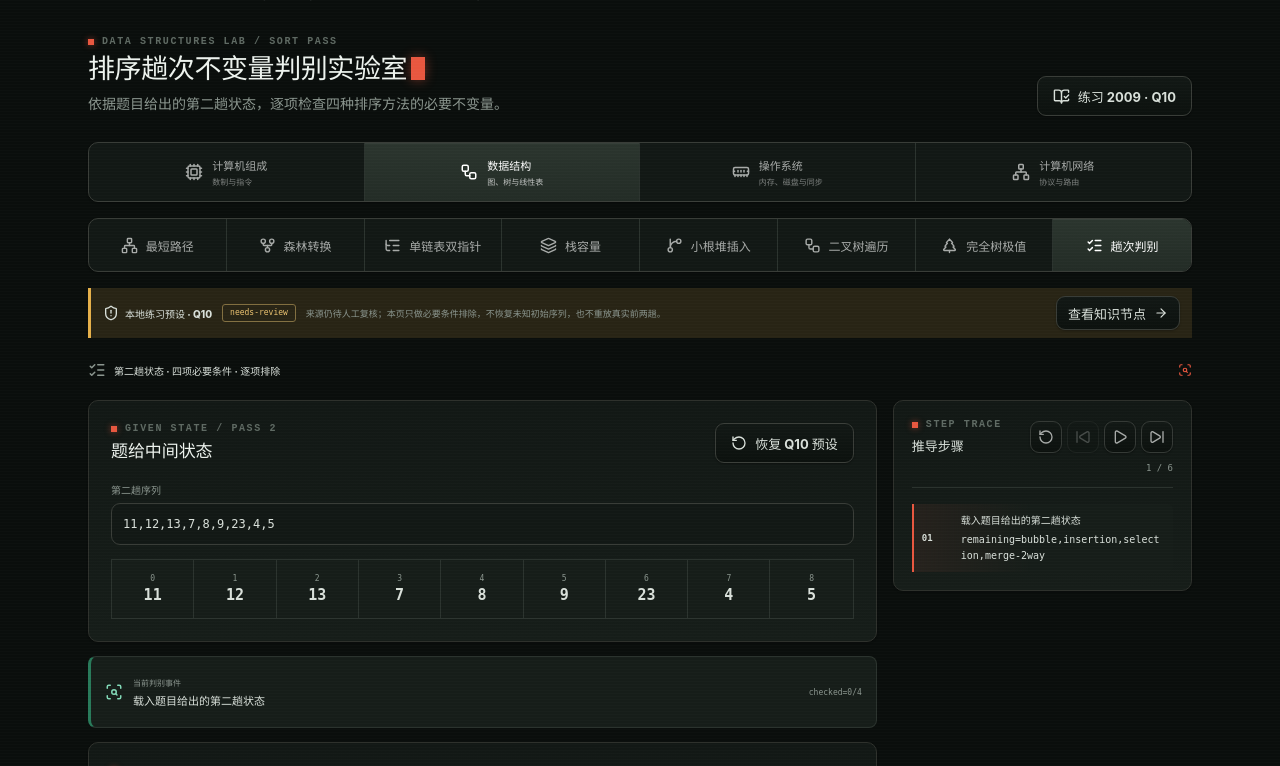
Test: SortPassAnalysisLabPage › reveals four necessary-condition checks and only concludes B at completion
The image size is (1280, 766).
What coordinates should you click on to do the following:
click the button named "下一步"
I would click on:
 (1157, 438)
Its box is 1141,422 -> 1173,454.
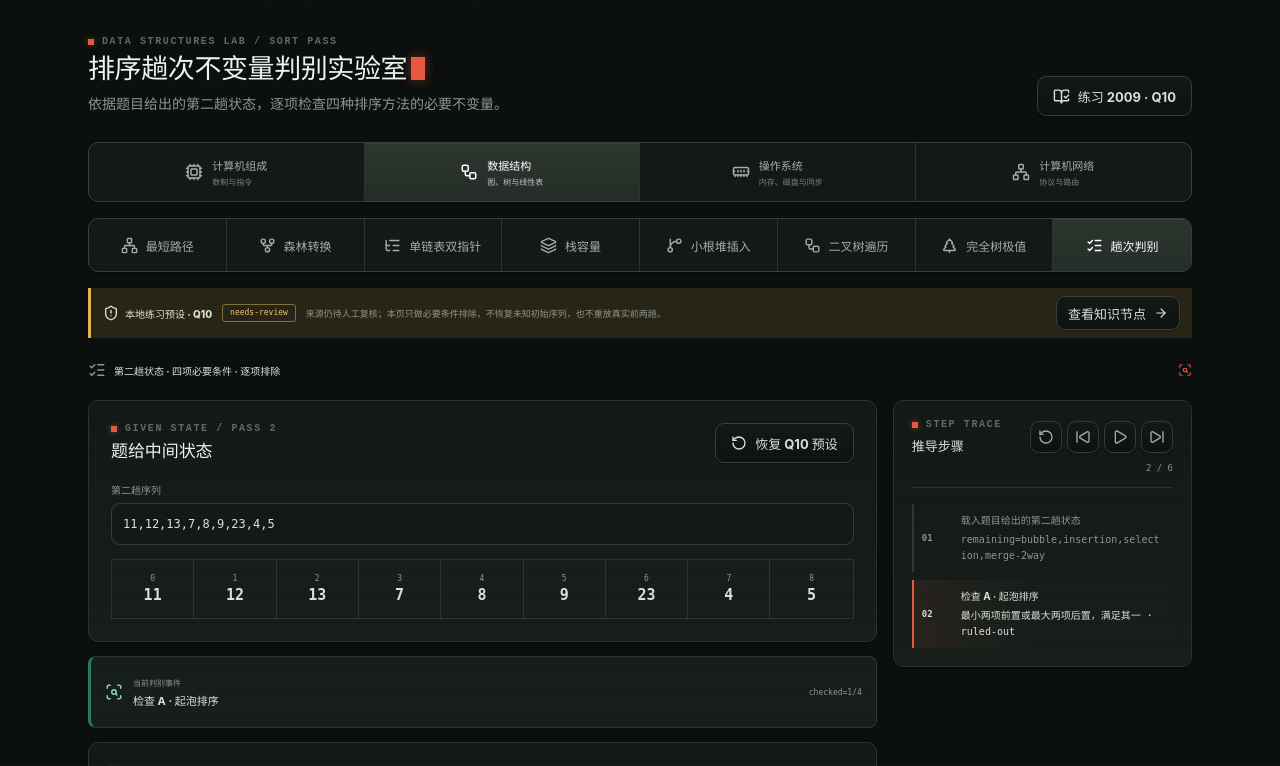
What coordinates should you click on to do the following:
click the button named "下一步"
I would click on:
 (1157, 438)
Its box is 1141,422 -> 1173,454.
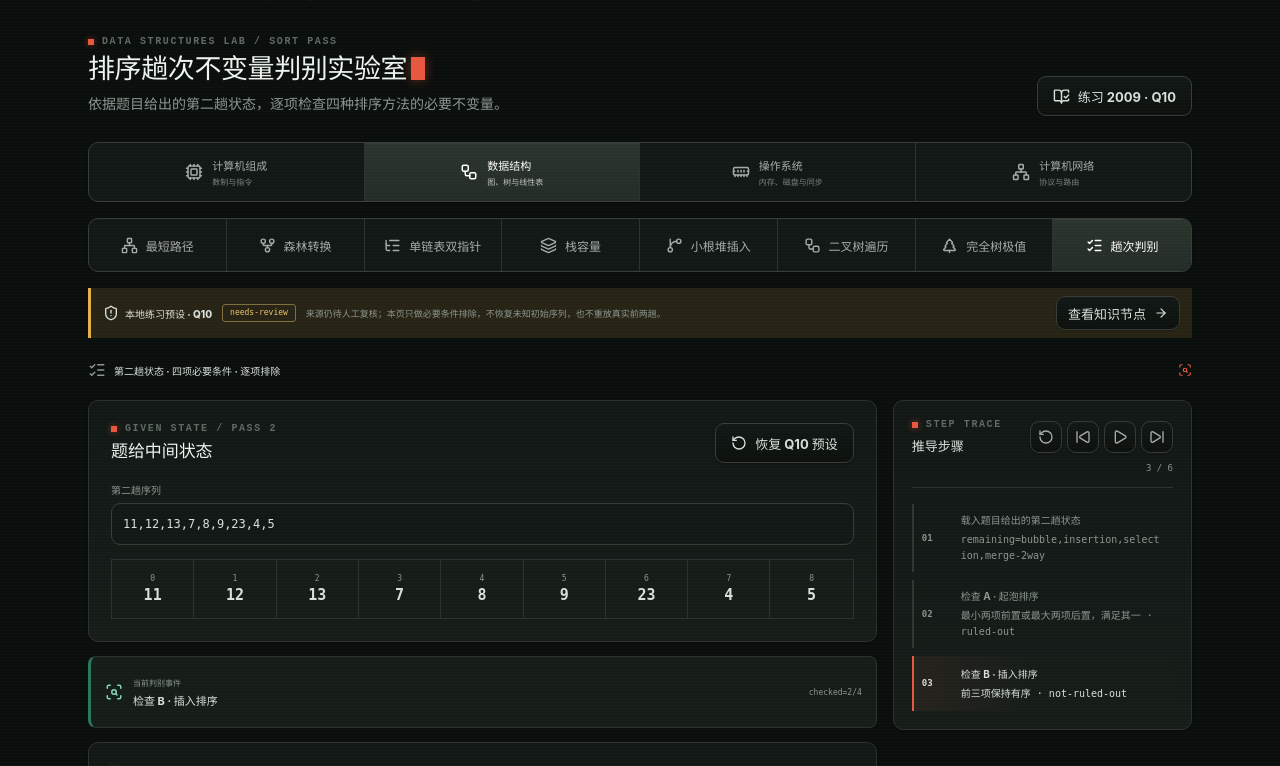
What coordinates should you click on to do the following:
click the button named "下一步"
I would click on:
 (1157, 438)
Its box is 1141,422 -> 1173,454.
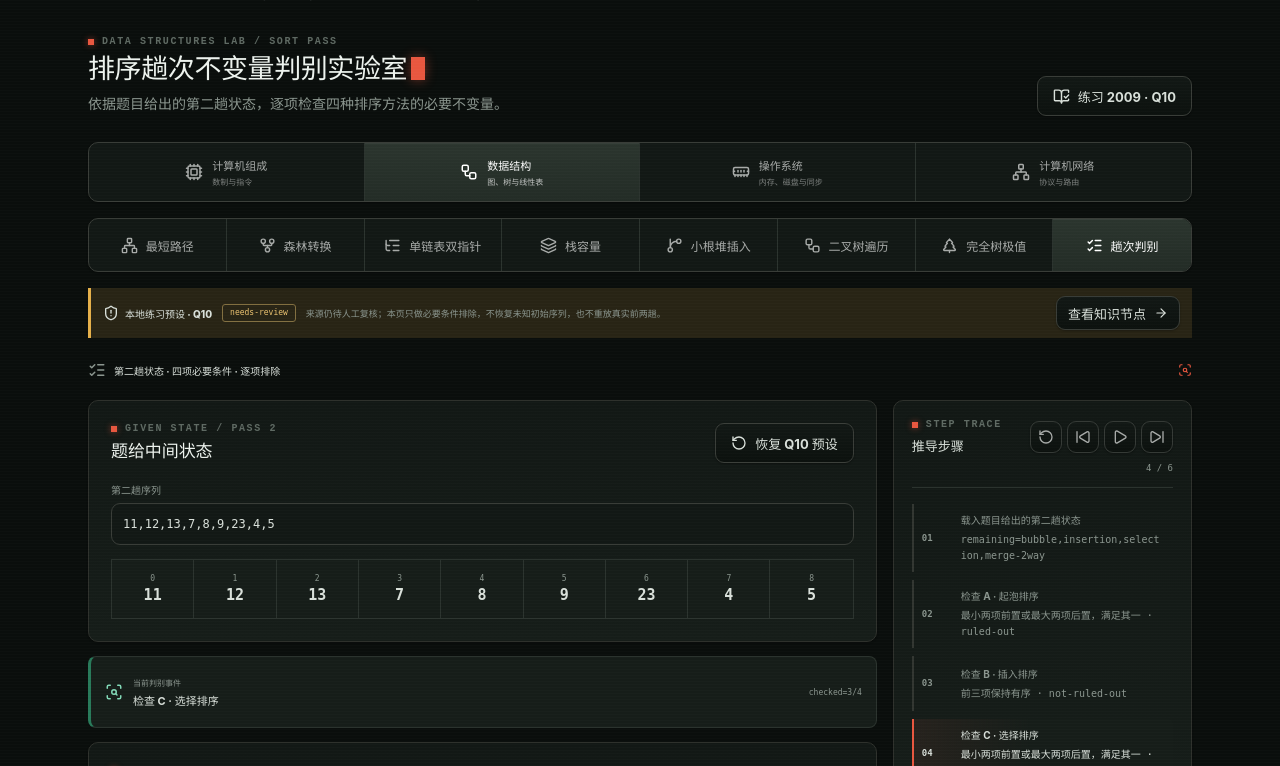
What coordinates should you click on to do the following:
click the button named "下一步"
I would click on:
 (1157, 438)
Its box is 1141,422 -> 1173,454.
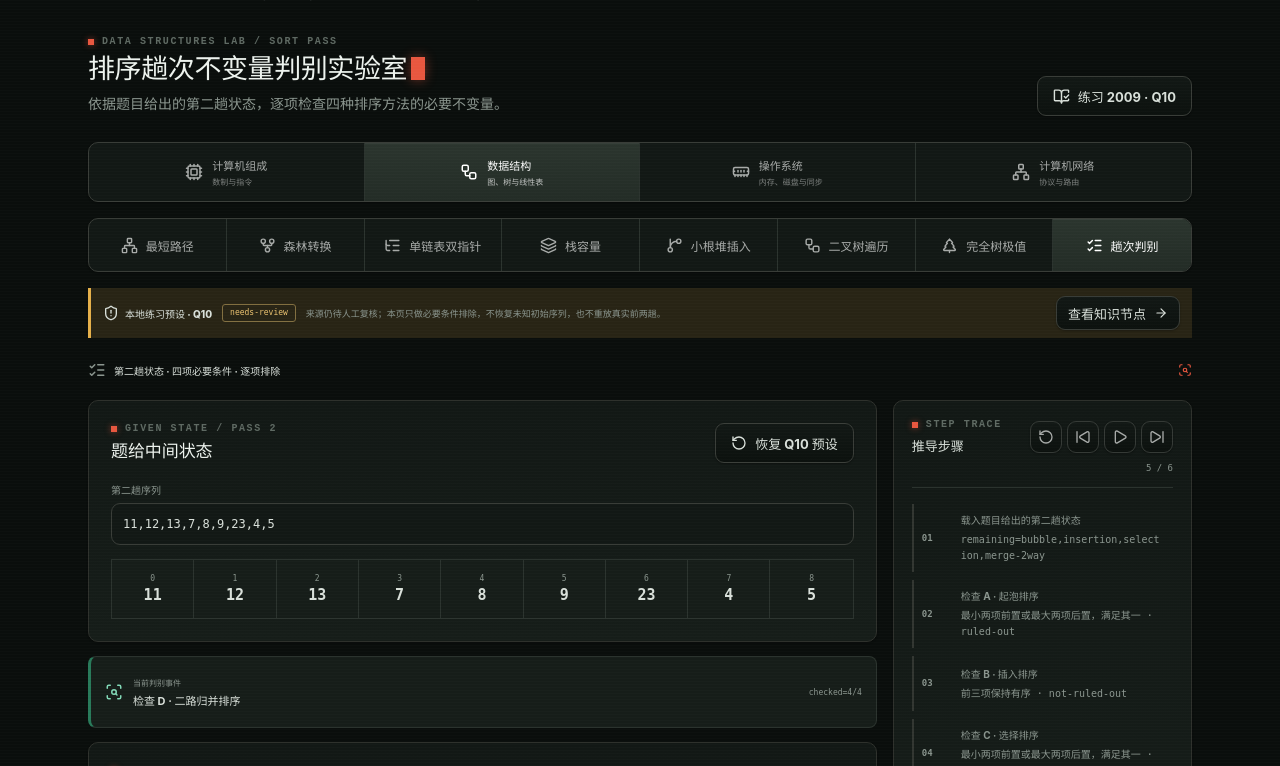
What coordinates should you click on to do the following:
click the button named "下一步"
I would click on:
 (1157, 438)
Its box is 1141,422 -> 1173,454.
(page scrolled)
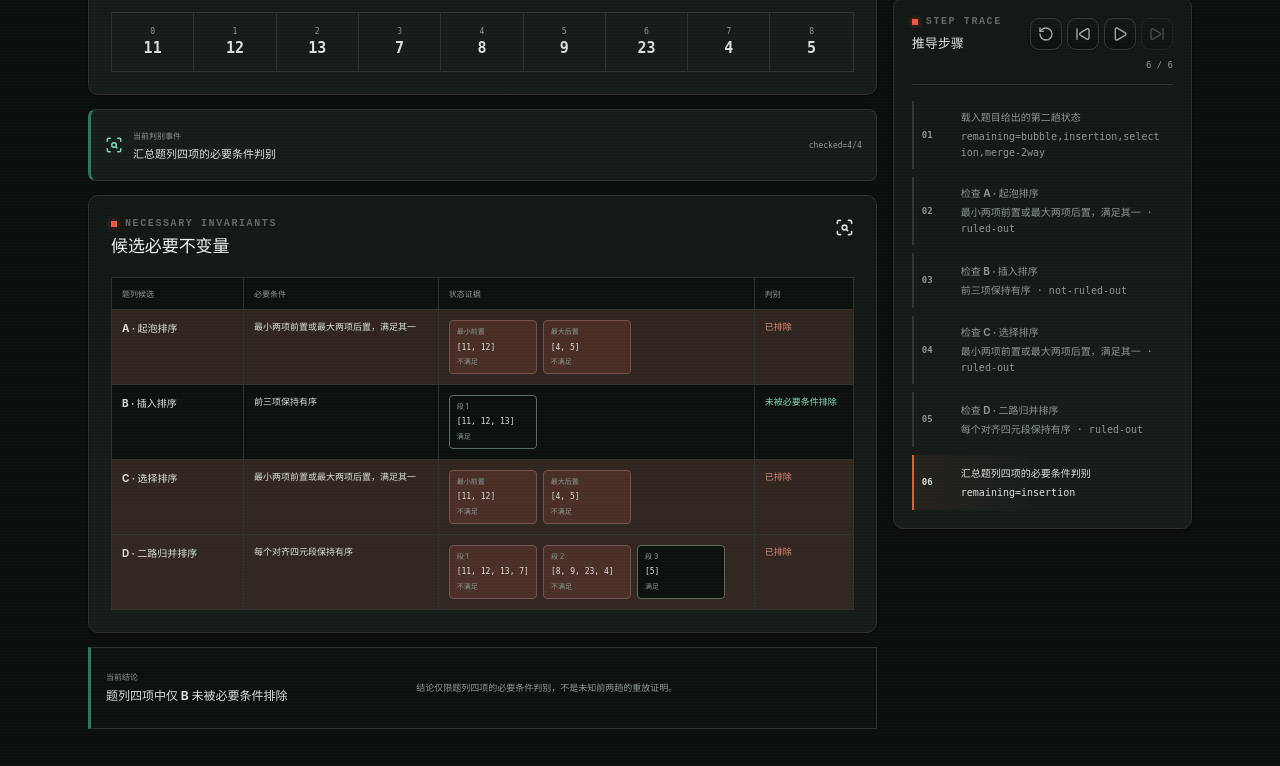
expect the element named "当前判别结论" shows "题列四项中仅 B 未被必要条件排除": met, box 106,688 -> 288,703
expect the element named "当前判别结论" shows "不是未知前两趟的重放证明": met, box 416,682 -> 677,693
